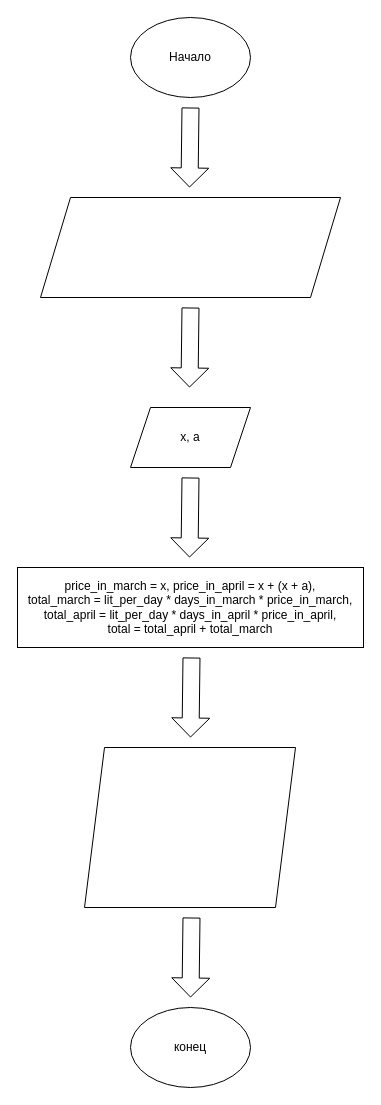
Image size: 381x1105. Some labels were removed from this diagram. Each missing label, with the centre of its shape:
lit_per_day, days_in_march, days_in_april: [190,247]
total_march, total_april, total: [190,827]
